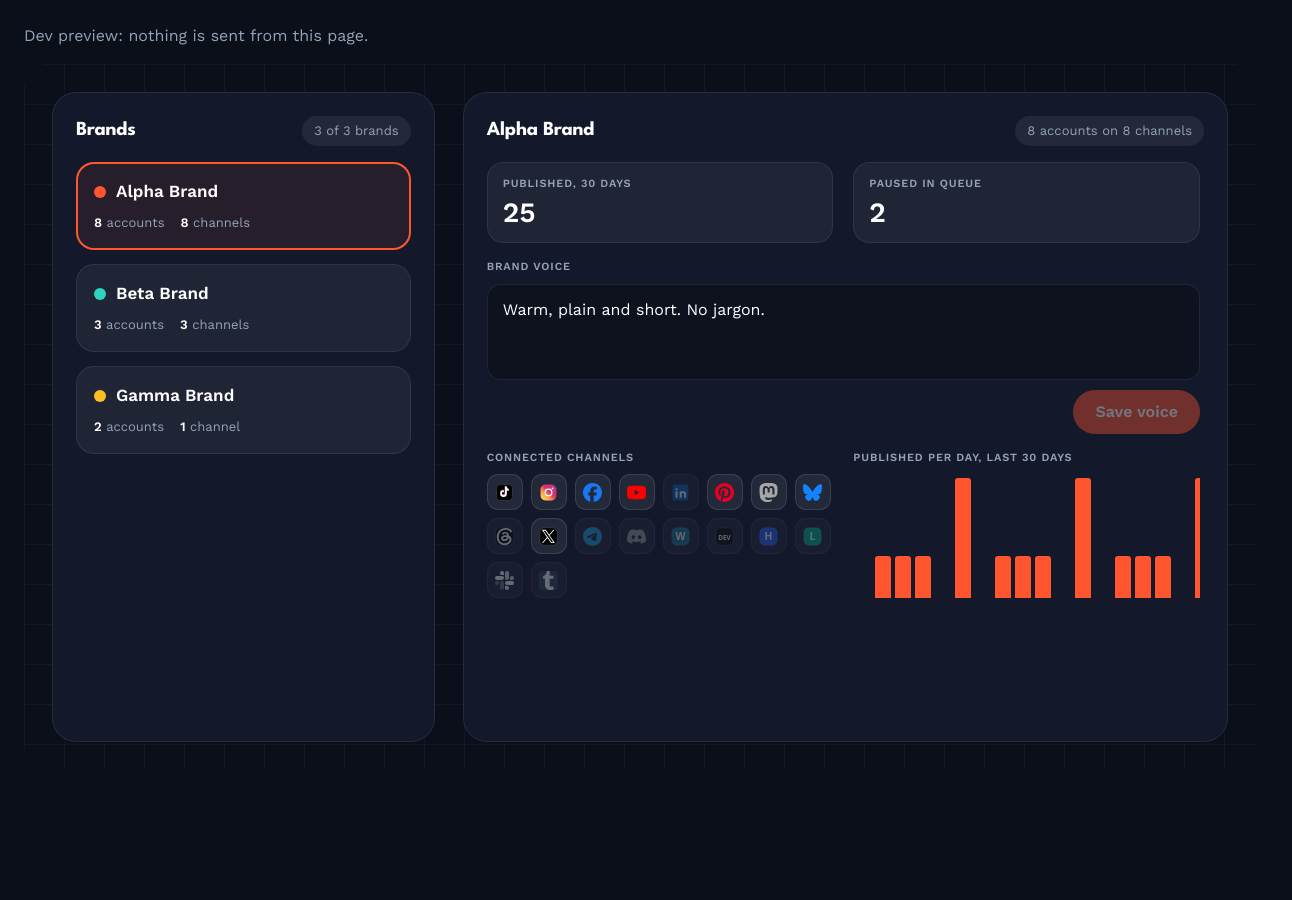
BrandsWorkspacePreview (dev only) › uses made-up brands and only reports what a save would do
The image size is (1292, 900).
Expected: the heading "Alpha Brand" is shown, 487,119 -> 594,142
Expected: the button with test id "bp-card-Beta Brand" is shown, 76,264 -> 411,352
Replace the text in the text box labelled "Brand voice" with "hello": (843, 332) 487,284 -> 1200,380
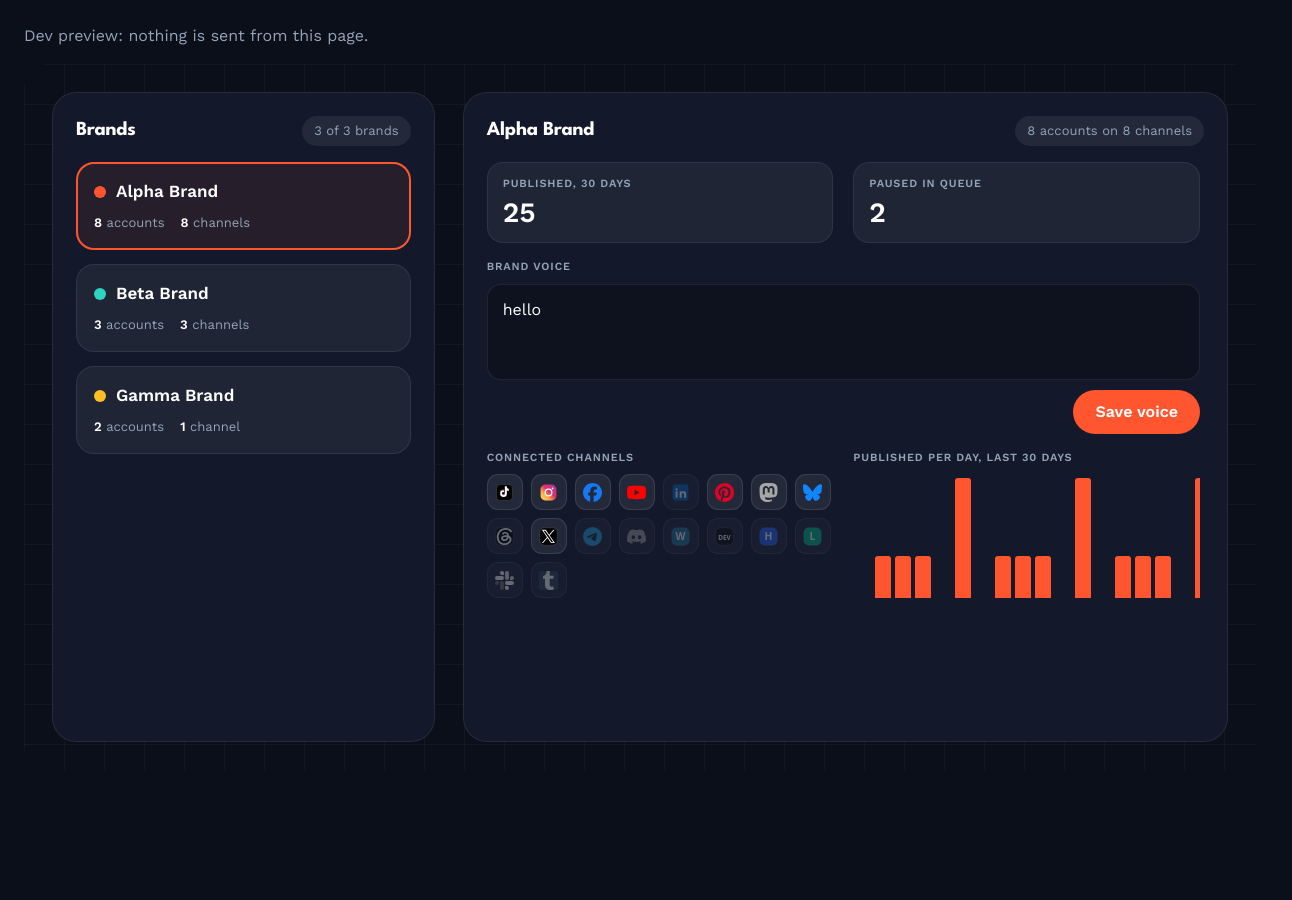
Click the button "Save voice": (1137, 412) 1074,390 -> 1200,434
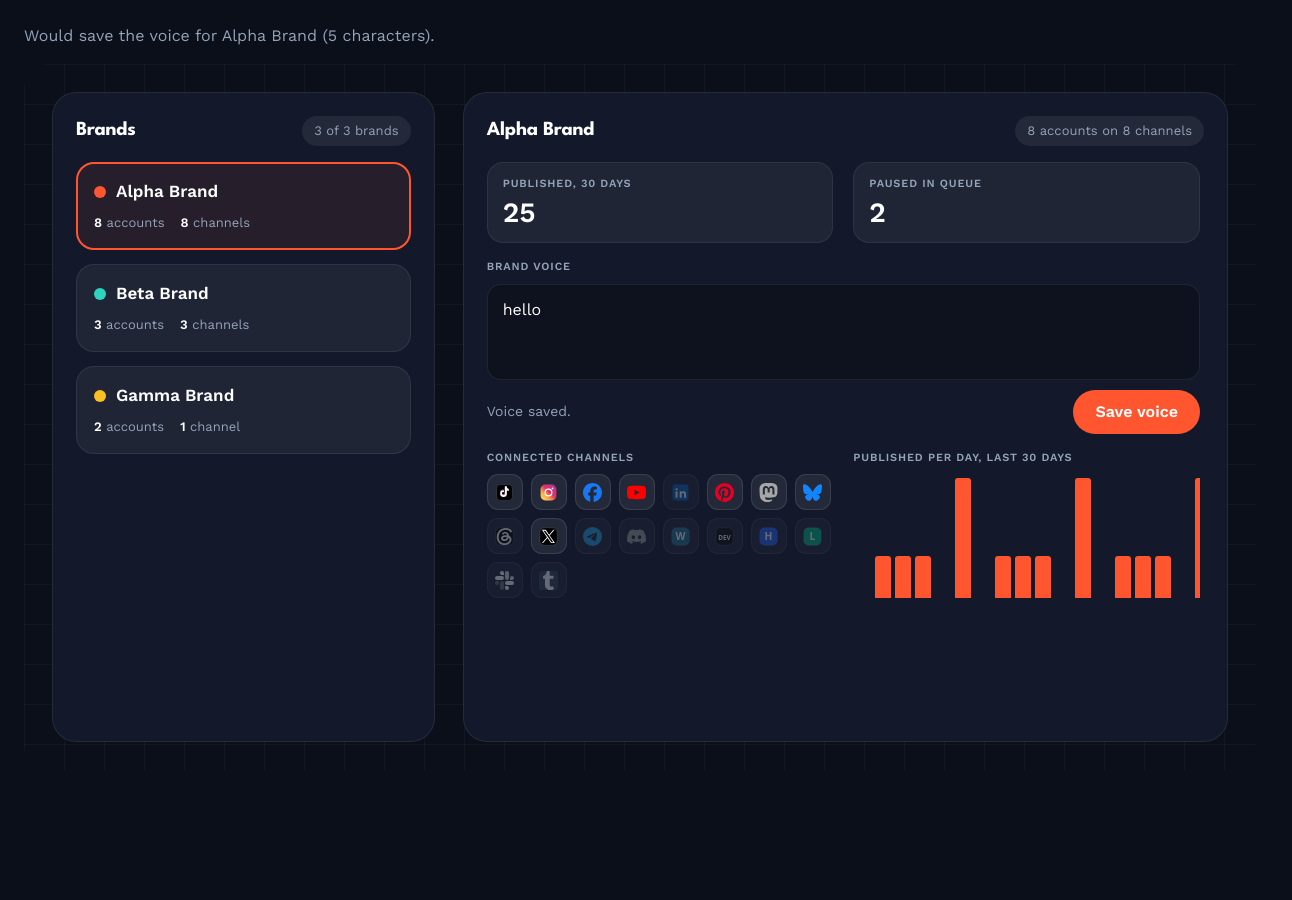
Expected: the text "Would save the voice for Alpha Brand (5 characters)." is shown, 24,26 -> 434,45
